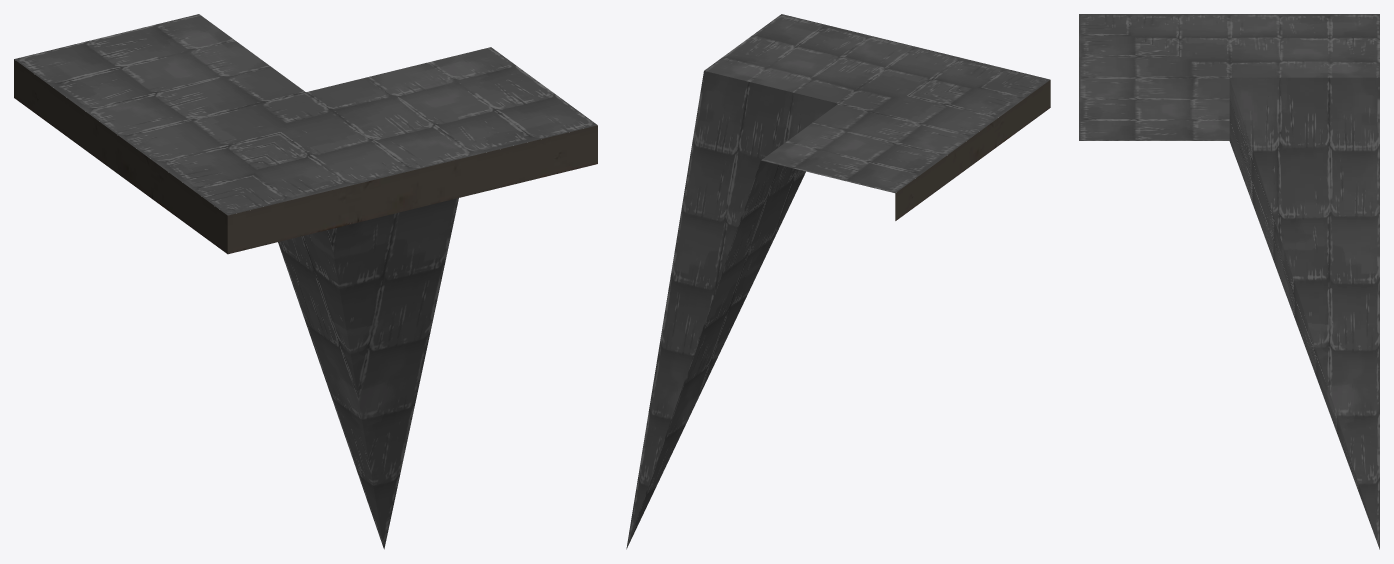
File: Roof_Slate_InnerCorner.glb
3 views of the same model, side by side, from view 1: azimuth 30°, elevation 25°; view 2: azimuth 150°, elevation 25°; view 3: azimuth 270°, elevation 25° (orthographic). The views are drawn at different scales.
Visible parts, largest first — view 1: Roof_Slate_InnerCorner; view 2: Roof_Slate_InnerCorner; view 3: Roof_Slate_InnerCorner.
Part boxes in pixels (left/top/right/bottom): Roof_Slate_InnerCorner: left=14, top=14, right=597, bottom=549; Roof_Slate_InnerCorner: left=626, top=14, right=1050, bottom=549; Roof_Slate_InnerCorner: left=1079, top=14, right=1379, bottom=549.
Bounding box in the file's own units: 2 × 3 × 2.
2 materials, 2 textured.
